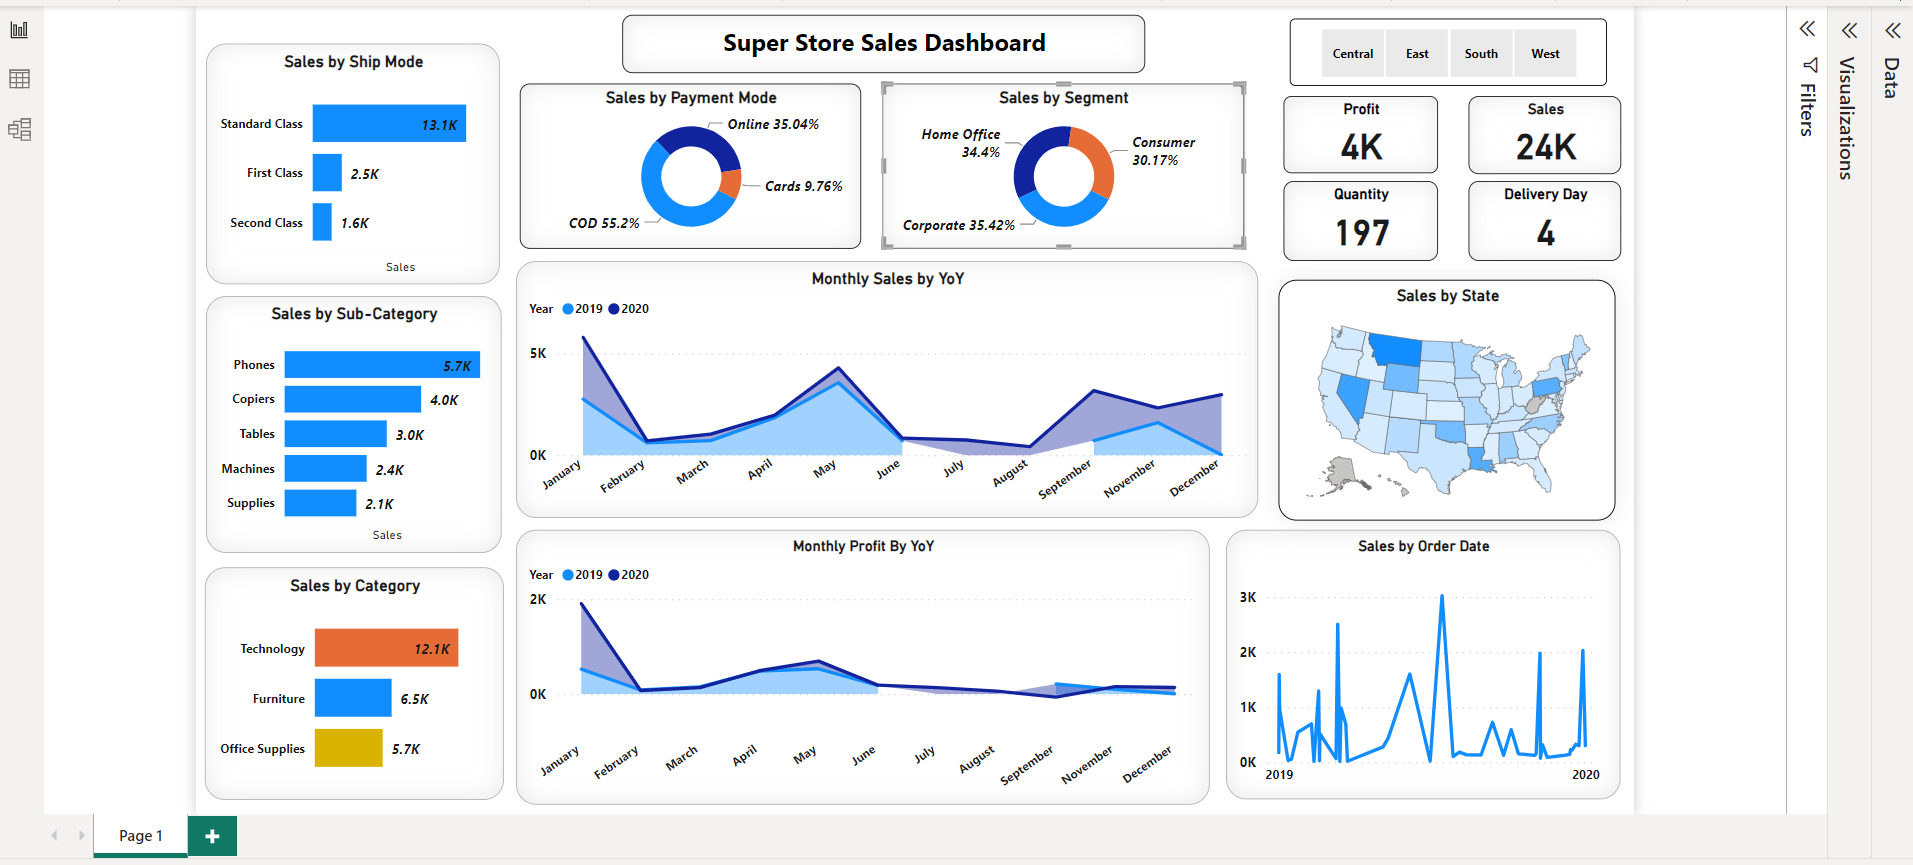

Layout of this report page (visuals, bound fields, positions):
{"tool":"powerbi","page":{"name":"Page 1","canvas":[1280,720],"ordinal":0},"visuals":[{"type":"barChart","fields":{"Category":["SuperStore_Sales_Dataset.Category"],"Y":["Sum(SuperStore_Sales_Dataset.Sales)"]},"box":[7.2,499.3,266.5,207.4],"z":0},{"type":"barChart","fields":{"Y":["Sum(SuperStore_Sales_Dataset.Sales)"],"Category":["SuperStore_Sales_Dataset.Sub-Category"]},"box":[8.4,258.1,262.9,229.1],"z":1000},{"type":"barChart","fields":{"Y":["Sum(SuperStore_Sales_Dataset.Sales)"],"Category":["SuperStore_Sales_Dataset.Ship Mode"]},"box":[8.4,33.8,261.7,214.7],"z":2000},{"type":"stackedAreaChart","title":"Monthly Sales by YoY","fields":{"Category":["SuperStore_Sales_Dataset.Order Date.Variation.Date Hierarchy.Month","SuperStore_Sales_Dataset.Order Date.Variation.Date Hierarchy.Day"],"Y":["Sum(SuperStore_Sales_Dataset.Sales)"],"Series":["SuperStore_Sales_Dataset.Order Date.Variation.Date Hierarchy.Year"]},"box":[284.6,226.7,660.9,229.1],"z":3000},{"type":"stackedAreaChart","title":"Monthly Profit By YoY","fields":{"Category":["SuperStore_Sales_Dataset.Order Date.Variation.Date Hierarchy.Month","SuperStore_Sales_Dataset.Order Date.Variation.Date Hierarchy.Day"],"Series":["SuperStore_Sales_Dataset.Order Date.Variation.Date Hierarchy.Year"],"Y":["Sum(SuperStore_Sales_Dataset.Profit)"]},"box":[284.6,466.7,617.5,244.8],"z":4000},{"type":"shapeMap","fields":{"Category":["SuperStore_Sales_Dataset.State"],"Value":["Sum(SuperStore_Sales_Dataset.Sales)"]},"box":[963.6,243.6,300.3,214.7],"z":5000},{"type":"donutChart","fields":{"Category":["SuperStore_Sales_Dataset.Segment"],"Y":["Sum(SuperStore_Sales_Dataset.Sales)"]},"box":[611.5,68.7,322,147.1],"z":6000},{"type":"donutChart","fields":{"Y":["Sum(SuperStore_Sales_Dataset.Sales)"],"Category":["SuperStore_Sales_Dataset.Payment Mode"]},"box":[288.2,68.7,303.9,147.1],"z":7000},{"type":"textbox","box":[379.9,7.2,465.5,51.9],"z":8000},{"type":"card","title":"Sales","fields":{"Values":["Sum(SuperStore_Sales_Dataset.Sales)"]},"box":[1132.5,79.6,136.3,69.9],"z":9000},{"type":"card","title":"Profit","fields":{"Values":["Sum(SuperStore_Sales_Dataset.Profit)"]},"box":[968.4,79.6,137.5,68.7],"z":10000},{"type":"card","title":"Quantity","fields":{"Values":["Sum(SuperStore_Sales_Dataset.Quantity)"]},"box":[968.4,155.6,137.5,71.2],"z":11000},{"type":"card","title":"Delivery Day","fields":{"Values":["Avg(SuperStore_Sales_Dataset.AveDelivery)"]},"box":[1132.5,155.6,136.3,71.2],"z":12000},{"type":"lineChart","fields":{"Category":["SuperStore_Sales_Dataset.Order Date"],"Y":["Sum(SuperStore_Sales_Dataset.Sales)"]},"box":[916.6,466.7,351,240],"z":13000},{"type":"slicer","fields":{"Values":["SuperStore_Sales_Dataset.Region"]},"box":[973.3,10.9,282.2,60.3],"z":14000}]}

Visuals, with their boxes on the page's 1280x720 design canvas (x1, y1, x2, y2). These are canvas units, not pixel positions in the 1913x865 screenshot, which may show the page scaled, cropped or inside an application window:
barChart - SuperStore_Sales_Dataset.Category x Sum(SuperStore_Sales_Dataset.Sales): Rect(7, 499, 274, 707)
barChart - Sum(SuperStore_Sales_Dataset.Sales) x SuperStore_Sales_Dataset.Sub-Category: Rect(8, 258, 271, 487)
barChart - Sum(SuperStore_Sales_Dataset.Sales) x SuperStore_Sales_Dataset.Ship Mode: Rect(8, 34, 270, 248)
"Monthly Sales by YoY" stackedAreaChart: Rect(285, 227, 946, 456)
"Monthly Profit By YoY" stackedAreaChart: Rect(285, 467, 902, 712)
shapeMap - SuperStore_Sales_Dataset.State x Sum(SuperStore_Sales_Dataset.Sales): Rect(964, 244, 1264, 458)
donutChart - SuperStore_Sales_Dataset.Segment x Sum(SuperStore_Sales_Dataset.Sales): Rect(612, 69, 934, 216)
donutChart - Sum(SuperStore_Sales_Dataset.Sales) x SuperStore_Sales_Dataset.Payment Mode: Rect(288, 69, 592, 216)
textbox: Rect(380, 7, 845, 59)
"Sales" card: Rect(1132, 80, 1269, 150)
"Profit" card: Rect(968, 80, 1106, 148)
"Quantity" card: Rect(968, 156, 1106, 227)
"Delivery Day" card: Rect(1132, 156, 1269, 227)
lineChart - SuperStore_Sales_Dataset.Order Date x Sum(SuperStore_Sales_Dataset.Sales): Rect(917, 467, 1268, 707)
slicer - SuperStore_Sales_Dataset.Region: Rect(973, 11, 1256, 71)
